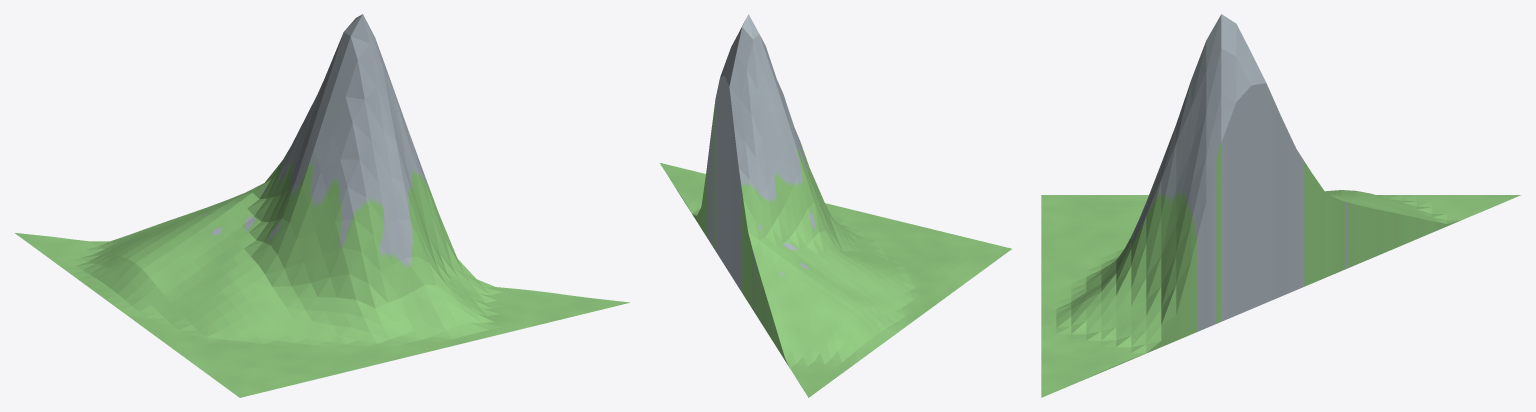
Rendered from Grass_RockyMountains_02_NW.obj.
3 views of the same model, side by side, from view 1: azimuth 30°, elevation 25°; view 2: azimuth 150°, elevation 25°; view 3: azimuth 270°, elevation 25° (orthographic). The views are drawn at different scales.
Size of the model in its own units: 10 by 6.63 by 10.
1 material, 1 textured.
